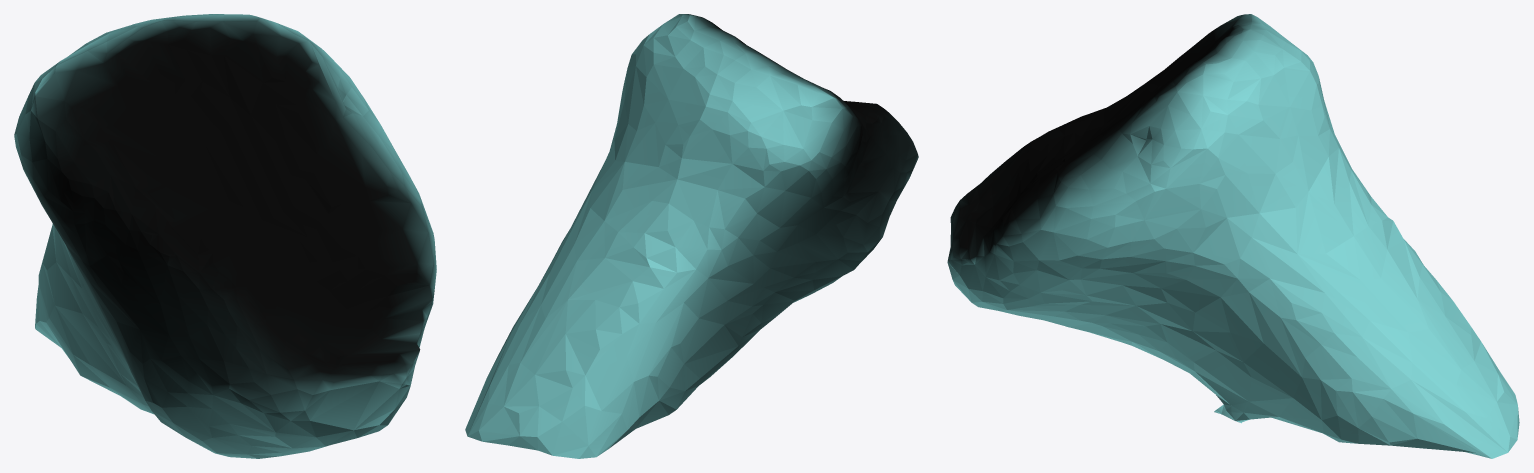
Rendered from Geometry13_lao.dae.
3 renders of one model, left to right at view 1: azimuth 30°, elevation 25°; view 2: azimuth 150°, elevation 25°; view 3: azimuth 270°, elevation 25°, orthographic. The views are drawn at different scales.
Parts seen in each view (by area): view 1: node; view 2: node; view 3: node.
Boxes of the visible parts, x1,y1,x2,y2 form: node: [14, 14, 436, 458]; node: [465, 14, 918, 458]; node: [947, 14, 1519, 458].
Bounding box in the file's own units: 22.18 × 27.32 × 40.22.
